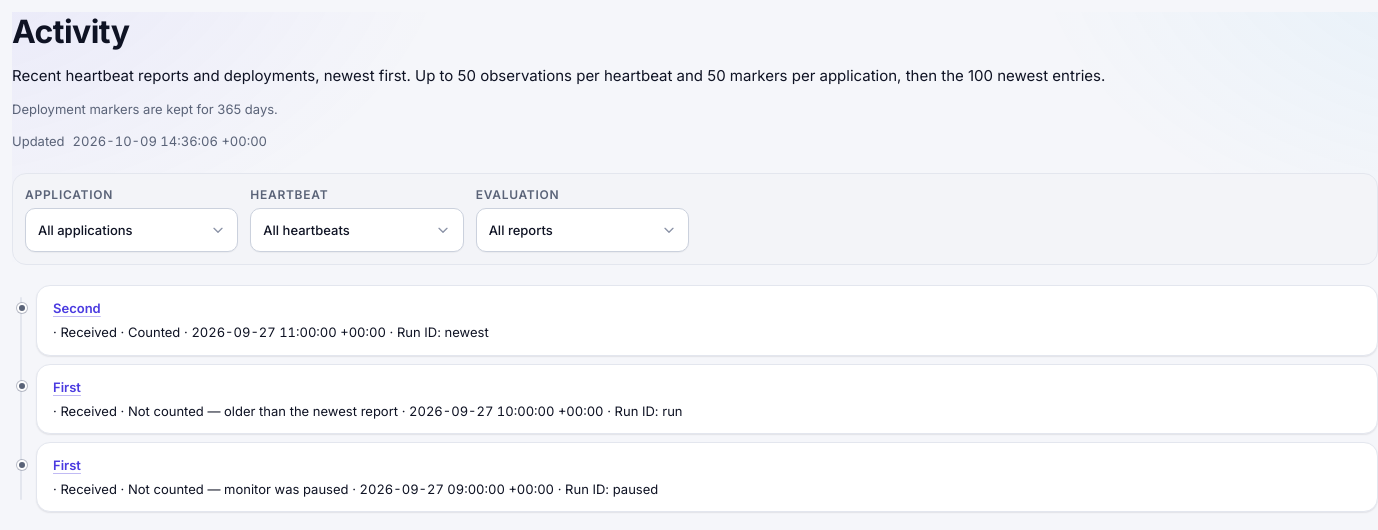
Scenario: merges heartbeat reports newest first and filters by heartbeat and evaluation
Expected: the 2nd list item shows "Not counted — older than the newest report", x1=36 y1=364 x2=1377 y2=434
Expected: the list item "Run ID: paused" shows "Not counted — monitor was paused", x1=36 y1=442 x2=1377 y2=512
Select "Not counted" in the dropdown labelled "Evaluation": (582, 230) x1=476 y1=208 x2=689 y2=252
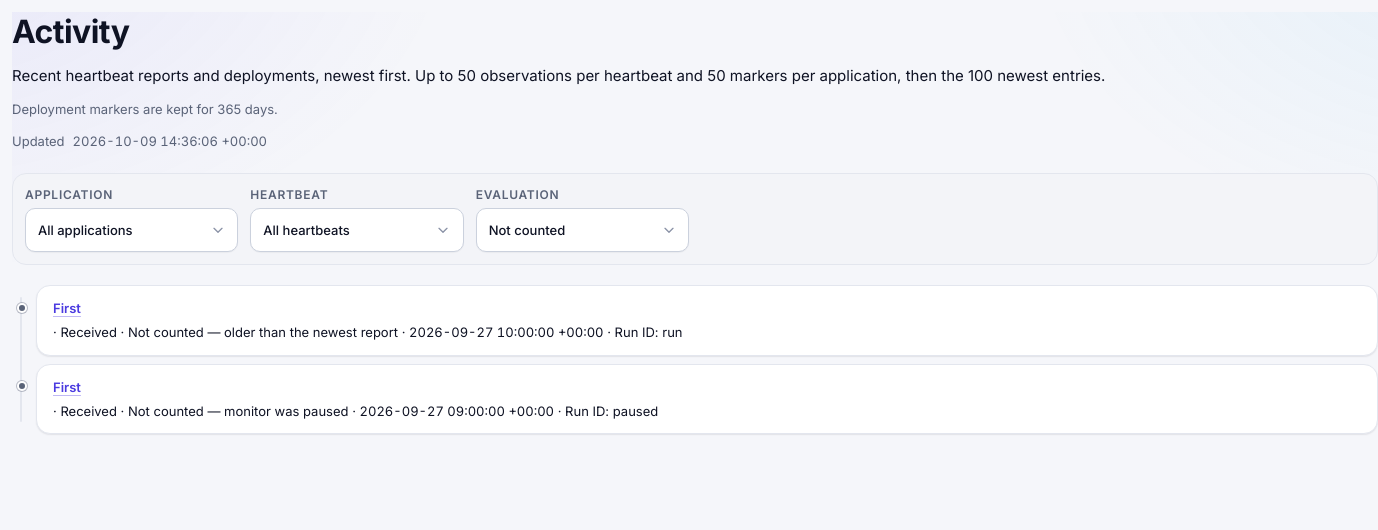
Expected: the 1st list item is shown, x1=36 y1=285 x2=1377 y2=356
Result: the list item "Run ID: newest" is gone
Select "Second" in the dropdown labelled "Heartbeat": (357, 230) x1=250 y1=208 x2=464 y2=252
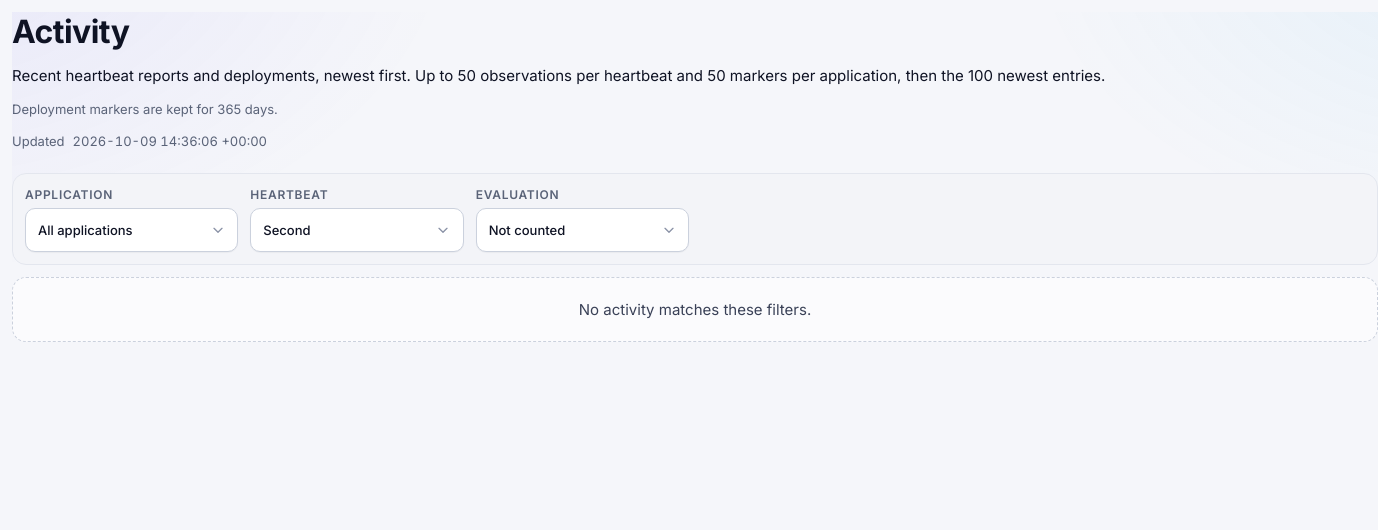
Result: the text "No activity matches these filters." is shown at x1=12 y1=277 x2=1377 y2=342
